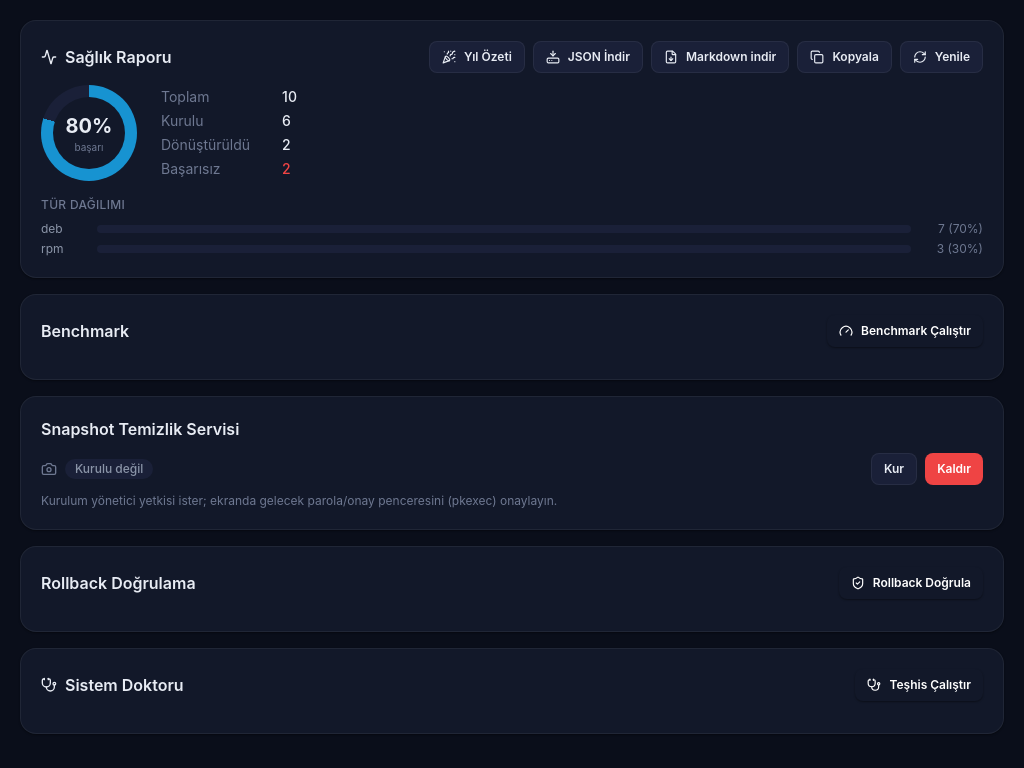
Test: Reports page › toasts the error when the benchmark RPC fails
The image size is (1024, 768).
expect the text "80%" is shown: met, box [66, 112, 112, 140]
Click the button "Benchmark Çalıştır".
click(905, 331)  # box [827, 315, 983, 347]
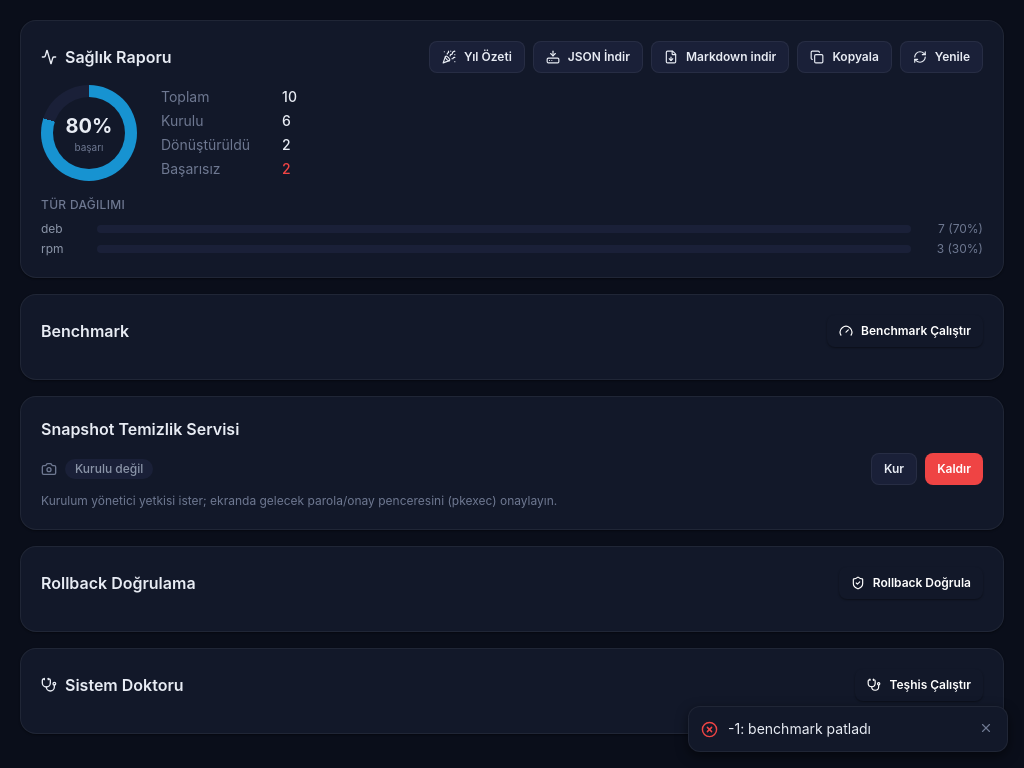
expect the text "-1: benchmark patladı" is shown: met, box [728, 720, 871, 737]
